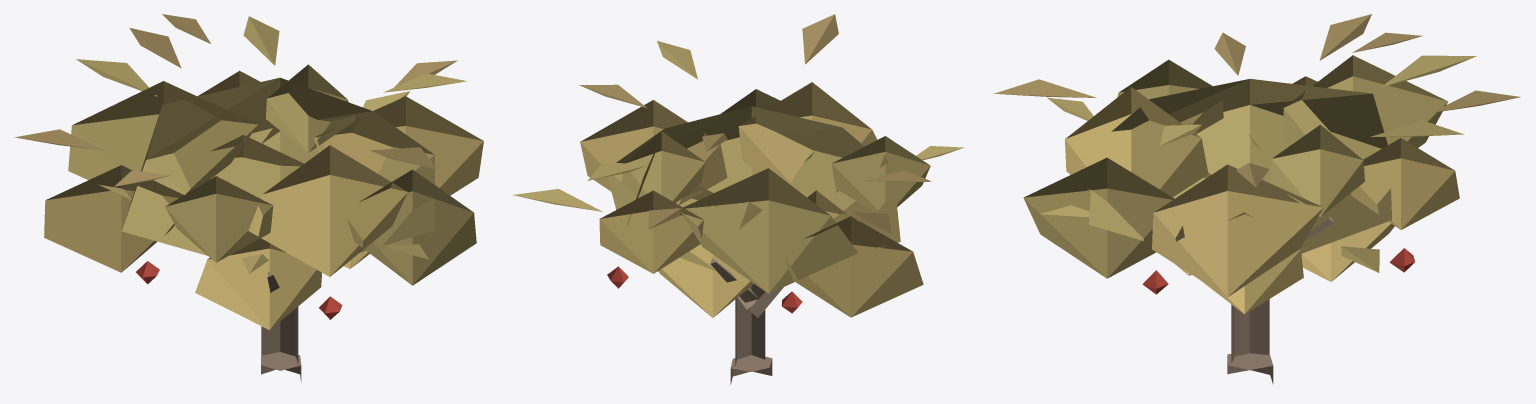
Rendered from nong.sang@fruiting__autumn.glb.
The picture shows the model from 3 angles, left to right: view 1: azimuth 30°, elevation 25°; view 2: azimuth 150°, elevation 25°; view 3: azimuth 270°, elevation 25°; orthographic projection. The views are drawn at different scales.
Parts seen in each view (by area): view 1: nong.sang@fruiting__autumn; view 2: nong.sang@fruiting__autumn; view 3: nong.sang@fruiting__autumn.
Part boxes in pixels (box(x1,y1,x2,y2)): nong.sang@fruiting__autumn: box(15, 14, 483, 382); nong.sang@fruiting__autumn: box(513, 14, 963, 384); nong.sang@fruiting__autumn: box(994, 14, 1520, 384).
Bounding box in the file's own units: 8.5 × 6.33 × 9.27.
